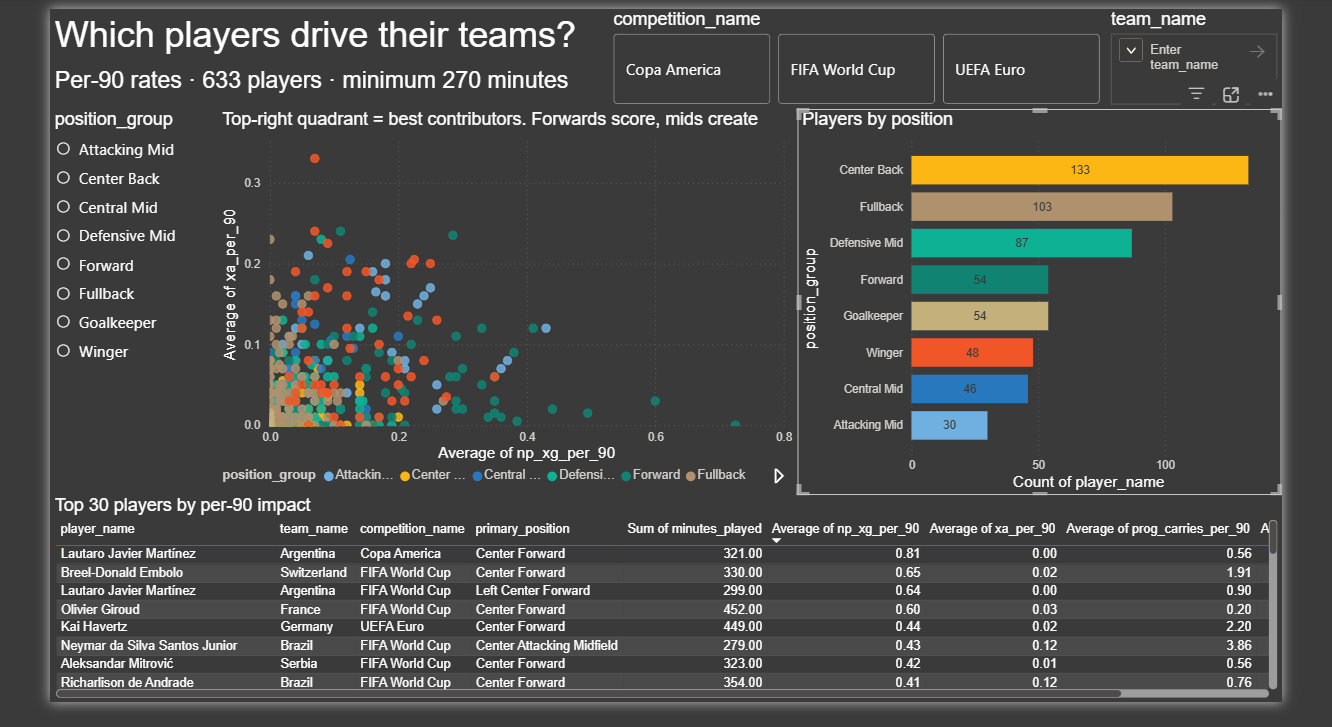

The dashboard page shown, as its layout file describes it:
{"tool":"powerbi","page":{"name":"Player Impact","canvas":[1280,720],"ordinal":2},"visuals":[{"type":"advancedSlicerVisual","fields":{"Values":["dim_team_competition.competition_name"]},"box":[580.4,0,516.6,104.3],"z":0},{"type":"textSlicer","fields":{"Values":["dim_team_competition.team_name"]},"box":[1096.9,0,182.8,104.3],"z":1000},{"type":"textbox","box":[0,0,560.7,55.2],"z":2000},{"type":"textbox","box":[0,55.2,580.4,49.1],"z":3000},{"type":"listSlicer","fields":{"Values":["mart_player_impact.position_group"]},"box":[0,104.3,174.3,400.7],"z":4000},{"type":"scatterChart","title":"Top-right quadrant = best contributors. Forwards score, mids create","fields":{"Category":["mart_player_impact.player_name"],"X":["Avg(mart_player_impact.np_xg_per_90)"],"Y":["Avg(mart_player_impact.xa_per_90)"],"Series":["mart_player_impact.position_group"]},"box":[174.3,104.3,602.4,400.7],"z":5000},{"type":"barChart","title":"Players by position","fields":{"Category":["mart_player_impact.position_group"],"Y":["Count(mart_player_impact.player_name)"],"Series":["mart_player_impact.position_group"]},"box":[776.7,104.3,503.1,401.2],"z":6000},{"type":"tableEx","title":"Top 30 players by per-90 impact","fields":{"Values":["mart_player_impact.player_name","mart_player_impact.team_name","mart_player_impact.competition_name","mart_player_impact.primary_position","Sum(mart_player_impact.minutes_played)","Avg(mart_player_impact.np_xg_per_90)","Avg(mart_player_impact.xa_per_90)","Avg(mart_player_impact.prog_carries_per_90)","Avg(mart_player_impact.pressures_per_90)"]},"box":[0,505,1280.3,215.4],"z":7000}]}

Visuals, with their boxes on the page's 1280x720 design canvas (x1, y1, x2, y2). These are canvas units, not pixel positions in the 1332x727 screenshot, which may show the page scaled, cropped or inside an application window:
advancedSlicerVisual - dim_team_competition.competition_name: bbox(580, 0, 1097, 104)
textSlicer - dim_team_competition.team_name: bbox(1097, 0, 1280, 104)
textbox: bbox(0, 0, 561, 55)
textbox: bbox(0, 55, 580, 104)
listSlicer - mart_player_impact.position_group: bbox(0, 104, 174, 505)
"Top-right quadrant = best contributors. Forwards score, mids create" scatterChart: bbox(174, 104, 777, 505)
"Players by position" barChart: bbox(777, 104, 1280, 506)
"Top 30 players by per-90 impact" tableEx: bbox(0, 505, 1280, 720)
